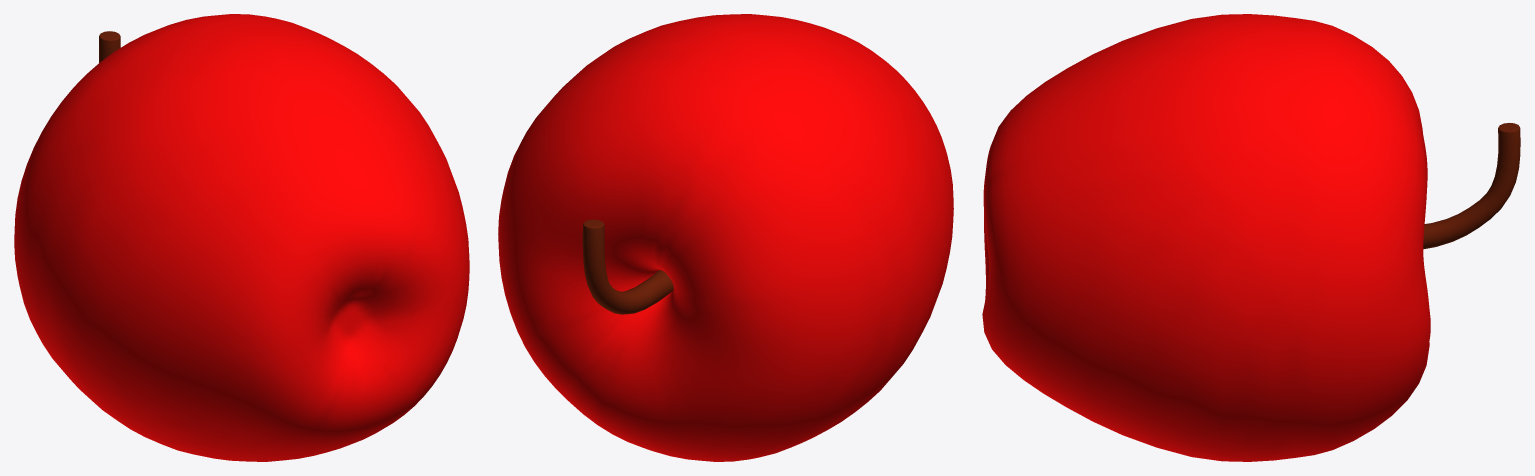
File: man2.fbx
3 views of the same model, side by side, from view 1: azimuth 30°, elevation 25°; view 2: azimuth 150°, elevation 25°; view 3: azimuth 270°, elevation 25° (orthographic). The views are drawn at different scales.
Visible parts, largest first — view 1: b, a; view 2: b, a; view 3: b, a.
Part boxes in pixels (<box>): b: <box>14,14,469,461</box>; a: <box>99,31,120,62</box>; b: <box>498,14,953,461</box>; a: <box>582,219,673,314</box>; b: <box>982,14,1430,461</box>; a: <box>1423,123,1520,249</box>.
Bounding box in the file's own units: 80.74 × 80.74 × 96.9.
